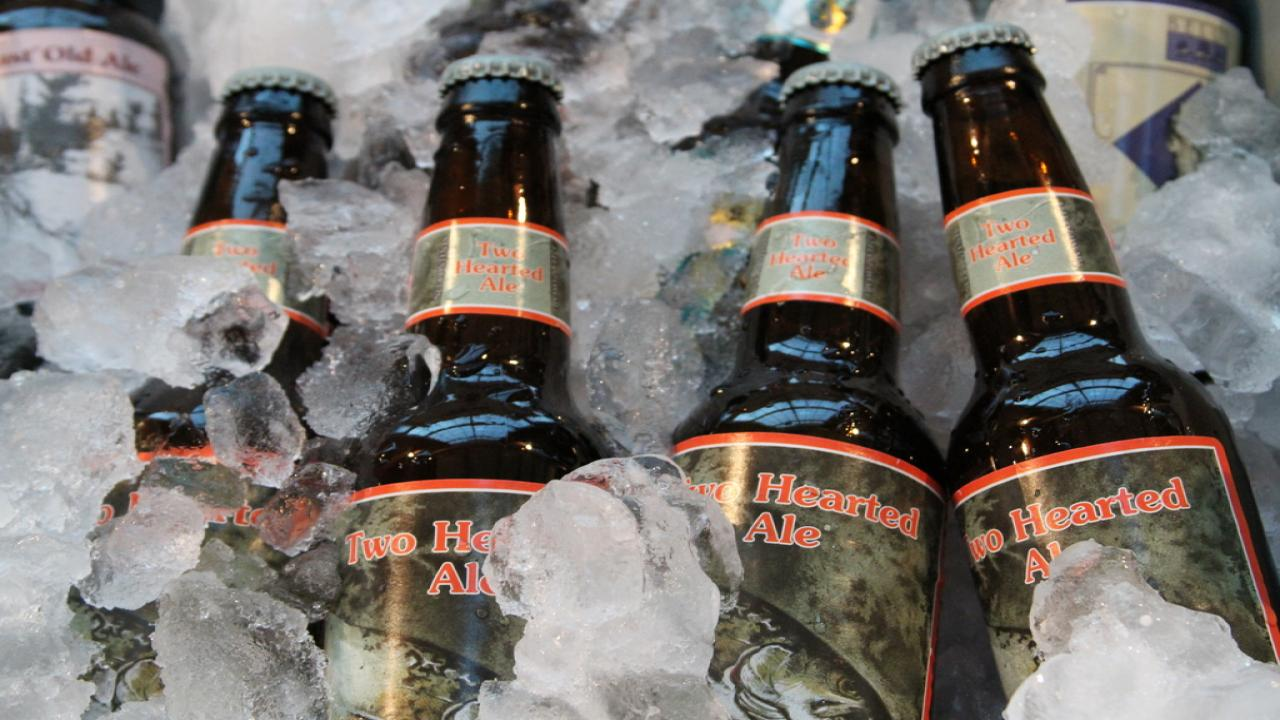bottle_cap: (914, 22, 1041, 75), (776, 62, 905, 114), (217, 66, 340, 117), (437, 53, 565, 100)
